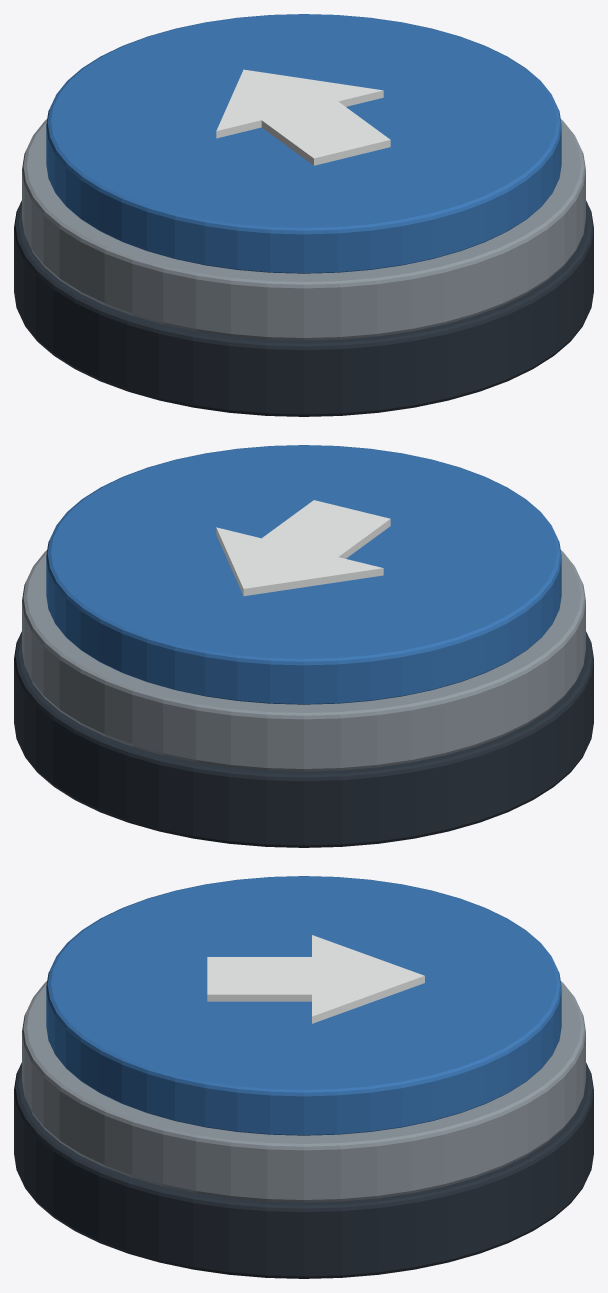
Rendered from round-target.glb.
The picture shows the model from 3 angles, top to bottom: view 1: azimuth 30°, elevation 25°; view 2: azimuth 150°, elevation 25°; view 3: azimuth 270°, elevation 25°; orthographic projection.
Parts seen in each view (by area): view 1: Blue_strike_surface, Lower_housing, Steel_shoulder, Arrow; view 2: Blue_strike_surface, Lower_housing, Steel_shoulder, Arrow; view 3: Blue_strike_surface, Lower_housing, Steel_shoulder, Arrow.
Boxes of the visible parts, x1,y1,x2,y2 form: Blue_strike_surface: (46, 14, 561, 273); Lower_housing: (14, 200, 593, 416); Steel_shoulder: (22, 119, 585, 340); Arrow: (216, 69, 390, 165); Blue_strike_surface: (46, 445, 561, 704); Lower_housing: (14, 631, 593, 847); Steel_shoulder: (22, 550, 585, 771); Arrow: (216, 500, 390, 596); Blue_strike_surface: (46, 876, 561, 1135); Lower_housing: (14, 1062, 593, 1278); Steel_shoulder: (22, 981, 585, 1202); Arrow: (207, 935, 424, 1023).
Size of the model in its own units: 0.72 by 0.25 by 0.72.
